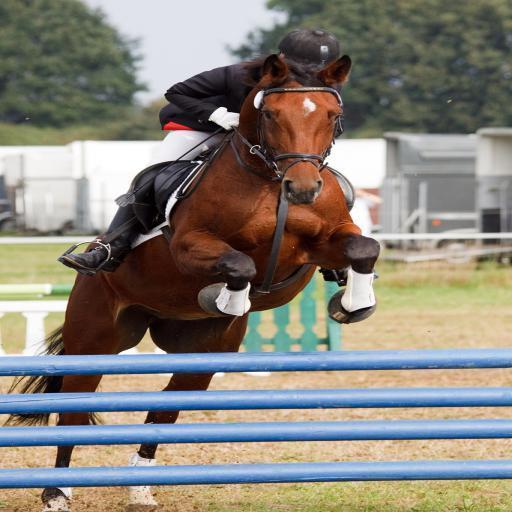horse: (4, 52, 380, 512)
